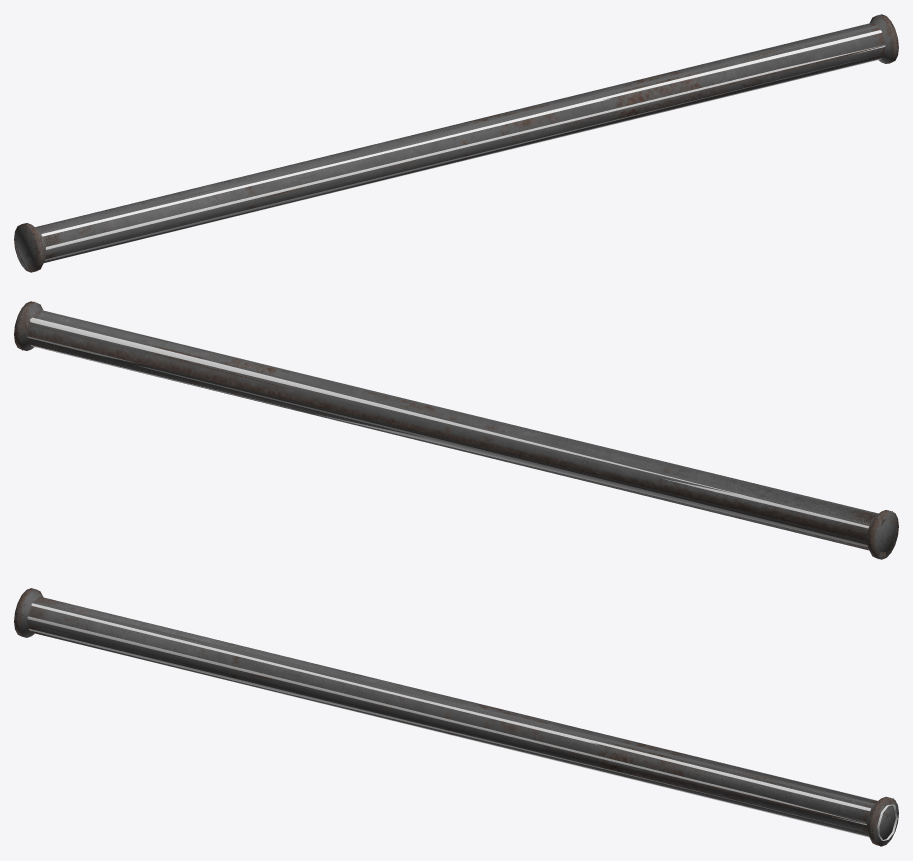
The model's file is s_gm_pipe_metal_d30.dae.
3 renders of one model, top to bottom at view 1: azimuth 30°, elevation 25°; view 2: azimuth 150°, elevation 25°; view 3: azimuth 330°, elevation 25°, orthographic.
Parts seen in each view (by area): view 1: Colmesh_metal_pipe_d30-1, metal_pipe_d30_a100, metal_pipe_d30_a200, metal_pipe_d30_a60; view 2: Colmesh_metal_pipe_d30-1, metal_pipe_d30_a200, metal_pipe_d30_a100, metal_pipe_d30_a60; view 3: Colmesh_metal_pipe_d30-1, metal_pipe_d30_a200, metal_pipe_d30_a100, metal_pipe_d30_a60.
Part boxes in pixels (x1,y1,x2,y2): Colmesh_metal_pipe_d30-1: [14, 14, 898, 272]; metal_pipe_d30_a100: [24, 14, 897, 268]; metal_pipe_d30_a200: [14, 14, 898, 272]; metal_pipe_d30_a60: [41, 23, 885, 260]; Colmesh_metal_pipe_d30-1: [14, 301, 898, 559]; metal_pipe_d30_a200: [14, 301, 898, 558]; metal_pipe_d30_a100: [15, 301, 892, 559]; metal_pipe_d30_a60: [27, 310, 869, 547]; Colmesh_metal_pipe_d30-1: [14, 588, 898, 846]; metal_pipe_d30_a200: [14, 589, 897, 845]; metal_pipe_d30_a100: [15, 588, 893, 846]; metal_pipe_d30_a60: [27, 603, 897, 840].
Bounding box in the file's own units: 8.02 × 0.4 × 0.4004.
